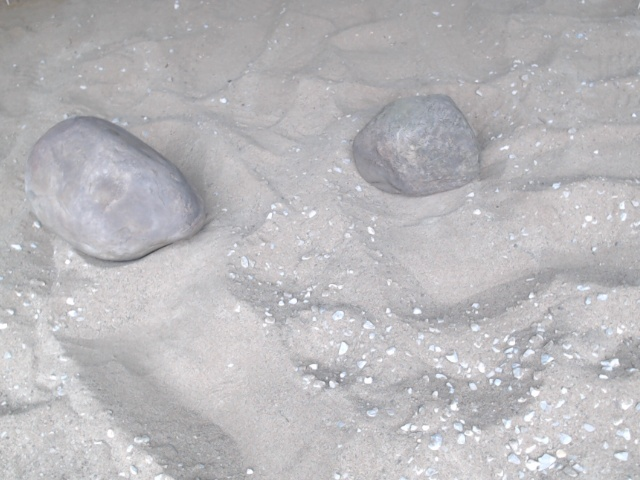rock: (20, 112, 213, 268), (348, 89, 484, 203)
